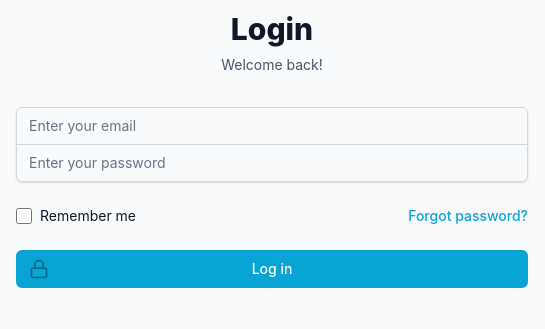
it: LoginForm.vue › shows error for short password
Type "user@example.com" into the field with id "username_or_email" at {"x": 272, "y": 126}, box [16,107,528,145]
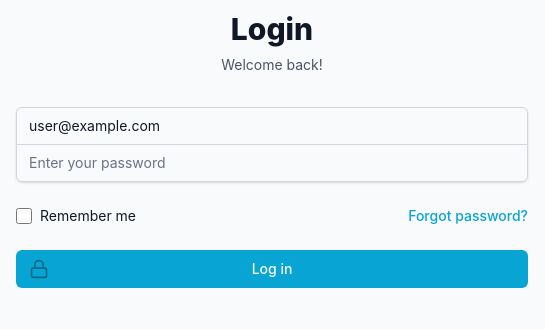
Type "123" into the password field with placeholder "Enter your password" at {"x": 272, "y": 163}, box [16,144,528,182]
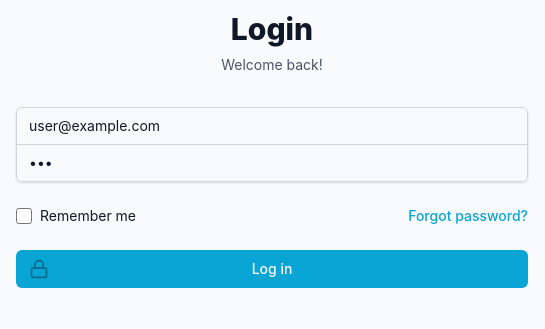
Submit the form, box [16,107,528,288]
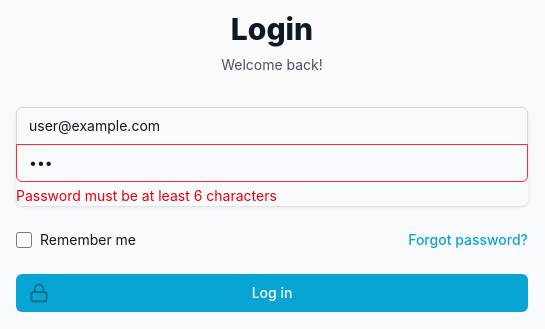
Expected: the text "Password must be at least 6 characters" is shown, [16,187,277,204]
